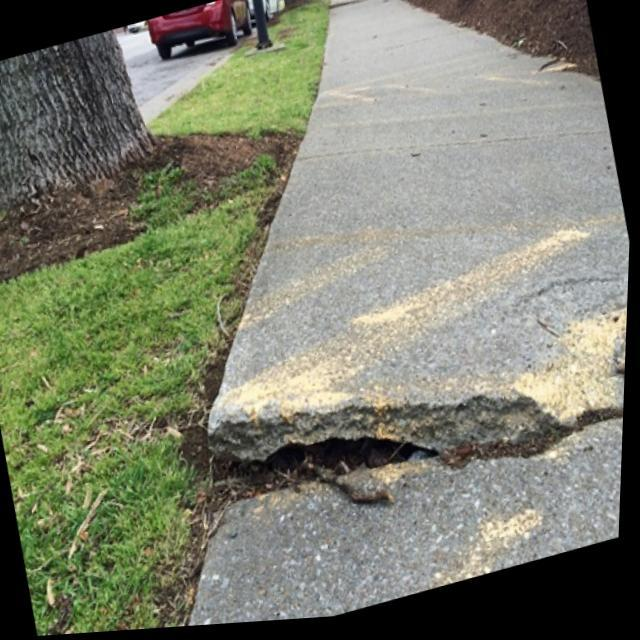hole: (156, 307, 602, 623)
